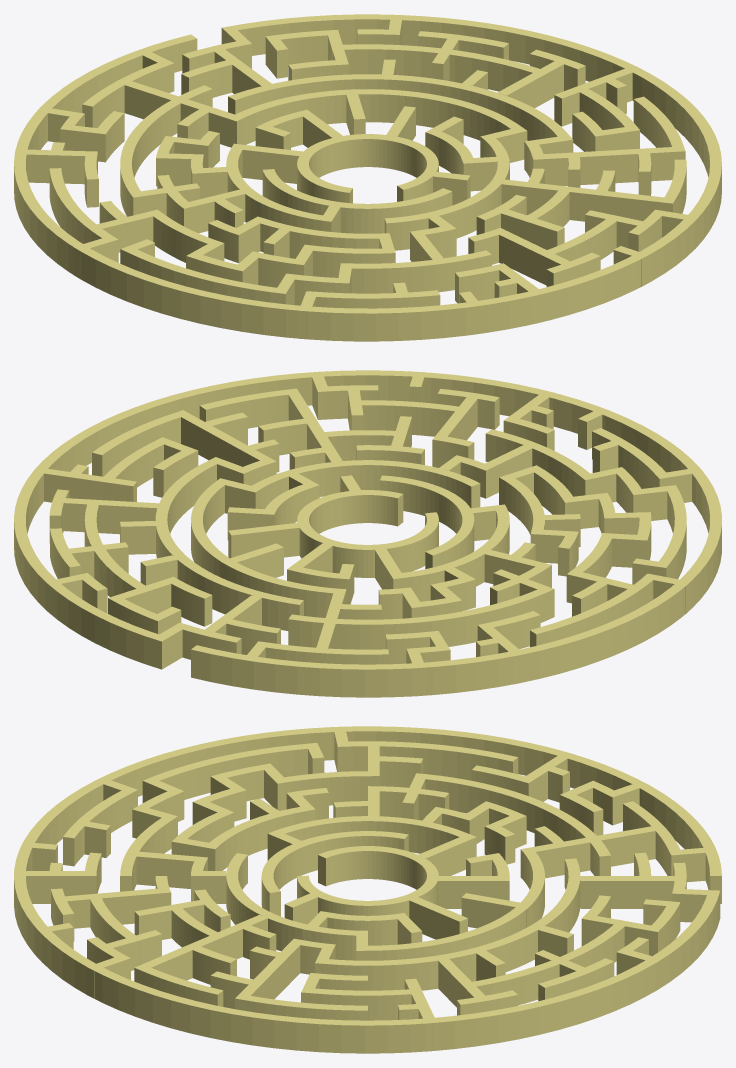
Rendered from LaberintoCircular.fbx.
The picture shows the model from 3 angles, top to bottom: view 1: azimuth 30°, elevation 25°; view 2: azimuth 150°, elevation 25°; view 3: azimuth 270°, elevation 25°; orthographic projection.
Visible parts, largest first — view 1: Curve; view 2: Curve; view 3: Curve.
Part boxes in pixels (bbox=[...]): Curve: bbox=[14, 14, 721, 341]; Curve: bbox=[14, 370, 721, 697]; Curve: bbox=[14, 726, 721, 1053].
Bounding box in the file's own units: 2965 × 130 × 2965.
